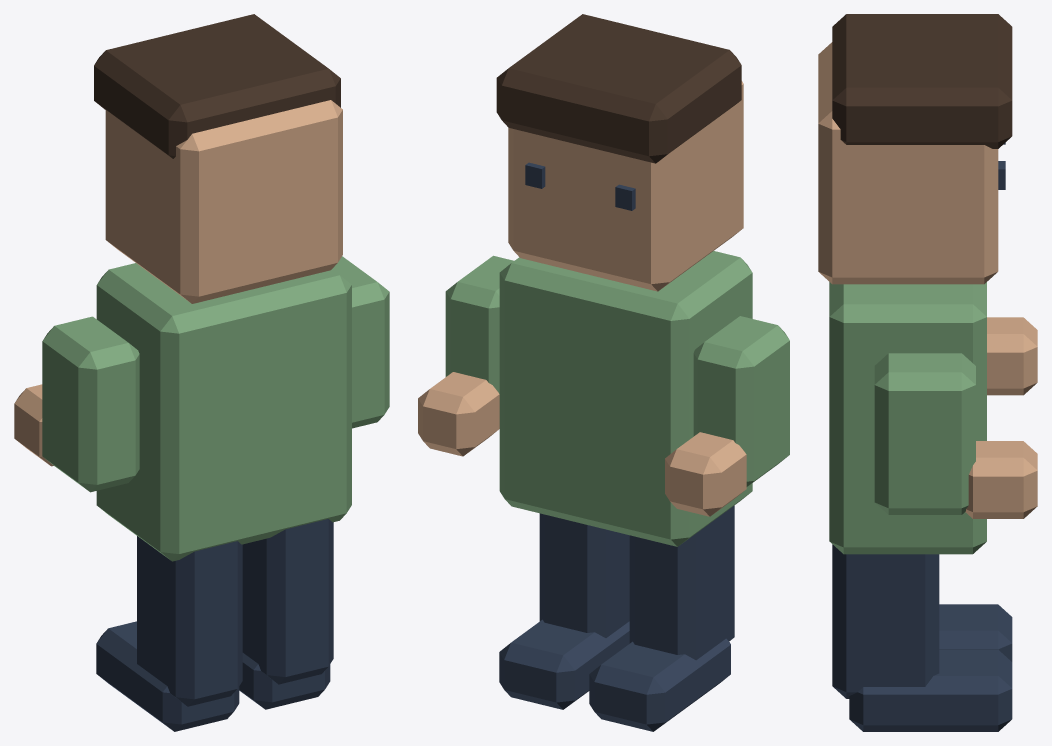
Rendered from agent-devops.glb.
The picture shows the model from 3 angles, left to right: view 1: azimuth 30°, elevation 25°; view 2: azimuth 150°, elevation 25°; view 3: azimuth 270°, elevation 25°; orthographic projection. The views are drawn at different scales.
Parts seen in each view (by area): view 1: Torso.003, Head.003, Hair.003, Leg.006, Sleeve.006, Leg.007, Sleeve.007, Shoe.006, Shoe.007, Hand.006; view 2: Torso.003, Head.003, Hair.003, Leg.006, Sleeve.006, Leg.007, Shoe.006, Shoe.007, Sleeve.007, Hand.006, Hand.007; view 3: Head.003, Torso.003, Hair.003, Sleeve.007, Leg.007, Shoe.007, Hand.007, Hand.006, Shoe.006.
Boxes of the visible parts, bbox=[...] form: Torso.003: bbox=[96, 263, 351, 561]; Head.003: bbox=[105, 100, 342, 303]; Hair.003: bbox=[94, 14, 340, 158]; Leg.006: bbox=[137, 536, 242, 706]; Sleeve.006: bbox=[42, 316, 139, 492]; Leg.007: bbox=[242, 519, 333, 684]; Sleeve.007: bbox=[332, 256, 389, 428]; Shoe.006: bbox=[96, 621, 239, 731]; Shoe.007: bbox=[239, 653, 330, 709]; Hand.006: bbox=[14, 384, 53, 466]; Torso.003: bbox=[499, 251, 752, 546]; Head.003: bbox=[508, 81, 743, 291]; Hair.003: bbox=[496, 14, 741, 163]; Leg.006: bbox=[629, 505, 734, 660]; Sleeve.006: bbox=[693, 316, 789, 486]; Leg.007: bbox=[539, 513, 629, 637]; Shoe.006: bbox=[589, 638, 730, 731]; Shoe.007: bbox=[499, 619, 629, 709]; Sleeve.007: bbox=[445, 255, 513, 393]; Hand.006: bbox=[665, 432, 746, 516]; Hand.007: bbox=[418, 372, 499, 456]; Head.003: bbox=[818, 42, 998, 284]; Torso.003: bbox=[829, 282, 986, 554]; Hair.003: bbox=[832, 14, 1012, 148]; Sleeve.007: bbox=[874, 353, 975, 514]; Leg.007: bbox=[832, 544, 939, 698]; Shoe.007: bbox=[849, 649, 1012, 731]; Hand.007: bbox=[965, 441, 1037, 518]; Hand.006: bbox=[987, 317, 1037, 395]; Shoe.006: bbox=[939, 604, 1012, 661].
Size of the model in its own units: 0.65 by 1.27 by 0.39.
